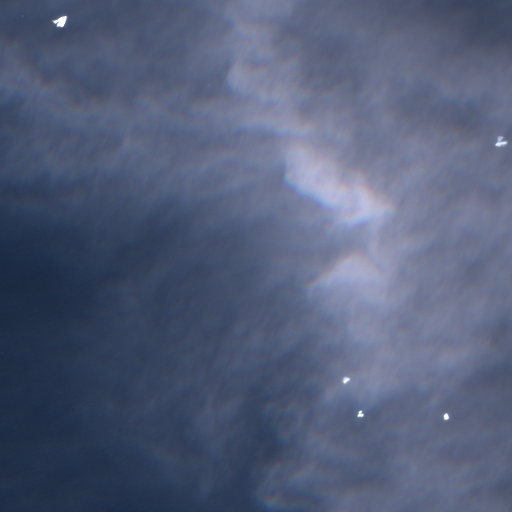Iceberg: (52, 16, 66, 26), (495, 136, 506, 146), (342, 377, 349, 383), (357, 410, 363, 416), (444, 413, 448, 419)
